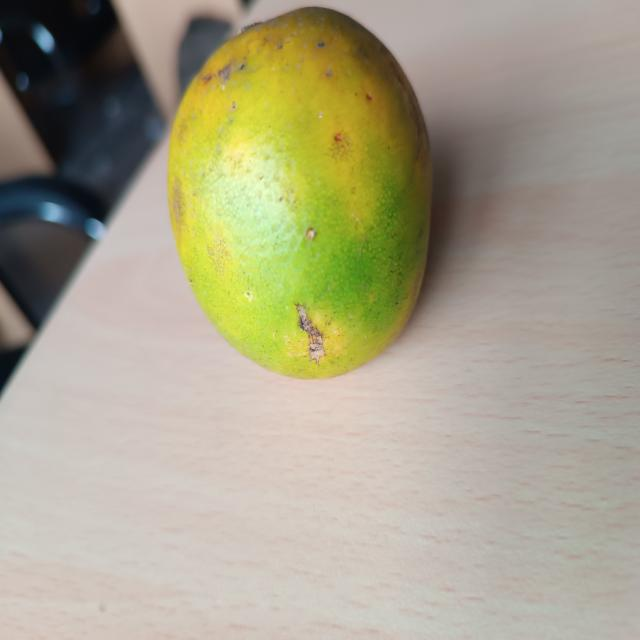Ripe orange: (160, 0, 446, 380)
